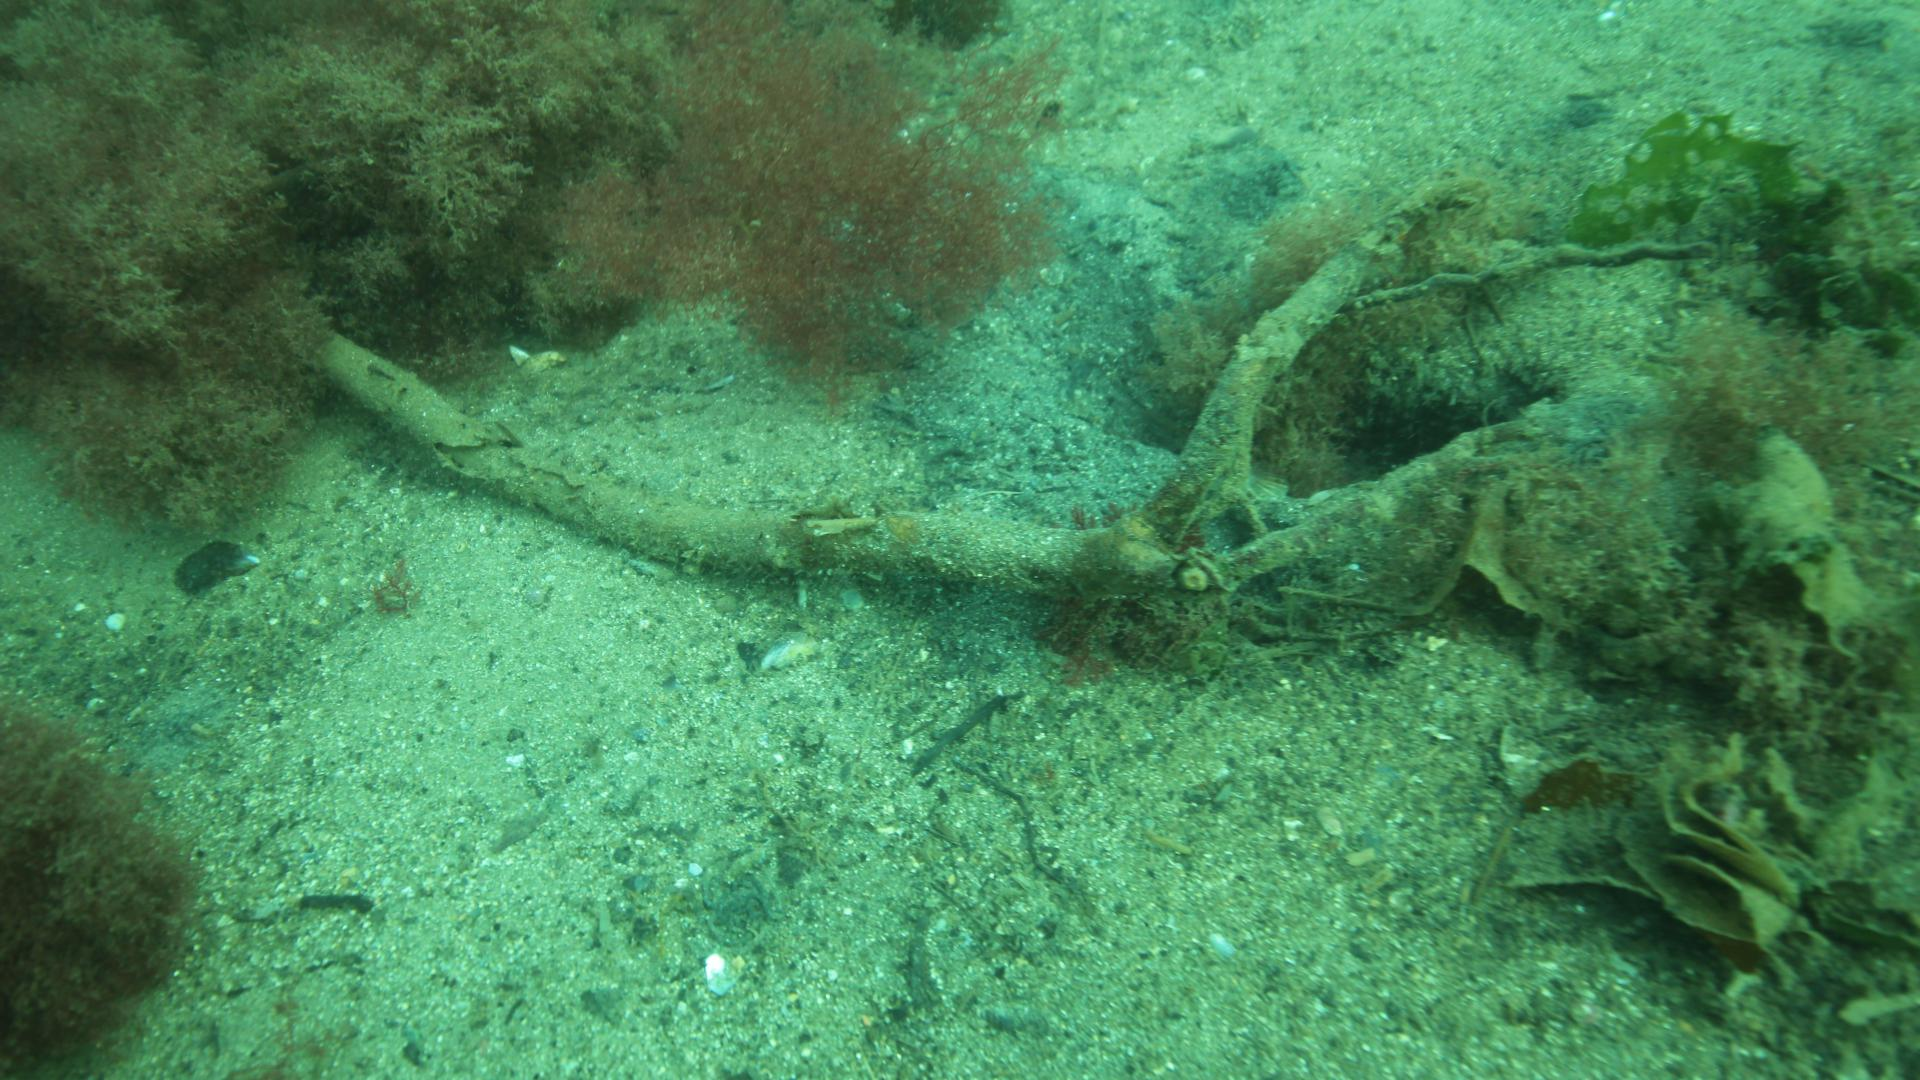wood: (328, 178, 1658, 597)
